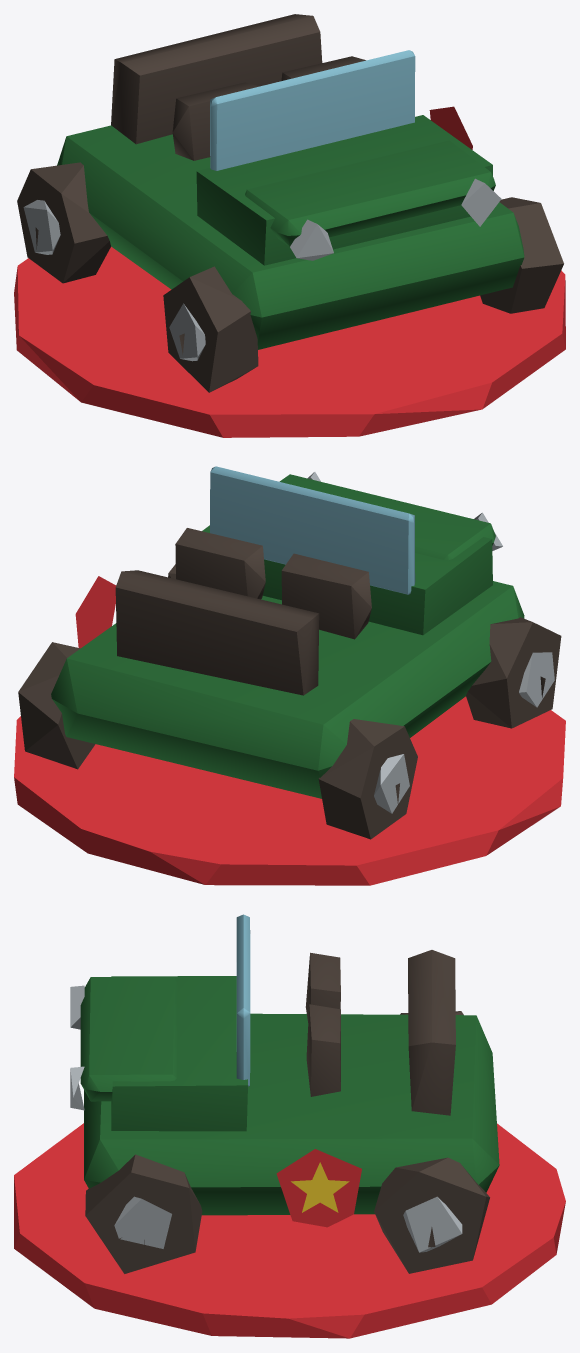
The model's file is vietnam_militia_lod1.glb.
3 views of the same model, one above another, from view 1: azimuth 30°, elevation 25°; view 2: azimuth 150°, elevation 25°; view 3: azimuth 270°, elevation 25° (orthographic).
Visible parts, largest first — view 1: body_hull, base_pedestal; view 2: body_hull, base_pedestal; view 3: body_hull, base_pedestal.
Boxes of the visible parts, x1,y1,x2,y2 form: body_hull: (17, 14, 563, 392); base_pedestal: (14, 246, 565, 437); body_hull: (18, 466, 561, 839); base_pedestal: (14, 696, 565, 885); body_hull: (70, 914, 499, 1273); base_pedestal: (14, 1123, 565, 1338).
Bounding box in the file's own units: 0.7751 × 0.4052 × 0.7751.
